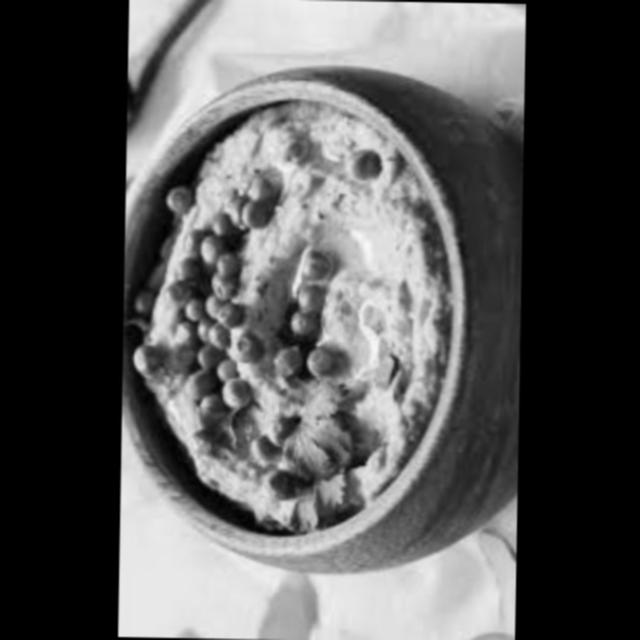dau Ha Lan: (170, 223, 266, 447), (287, 238, 333, 354), (238, 430, 296, 505), (228, 164, 276, 242), (255, 332, 312, 394), (291, 334, 341, 402), (124, 334, 169, 391), (334, 141, 378, 193), (260, 419, 302, 460), (272, 142, 313, 175), (125, 287, 155, 326), (156, 172, 177, 212)
